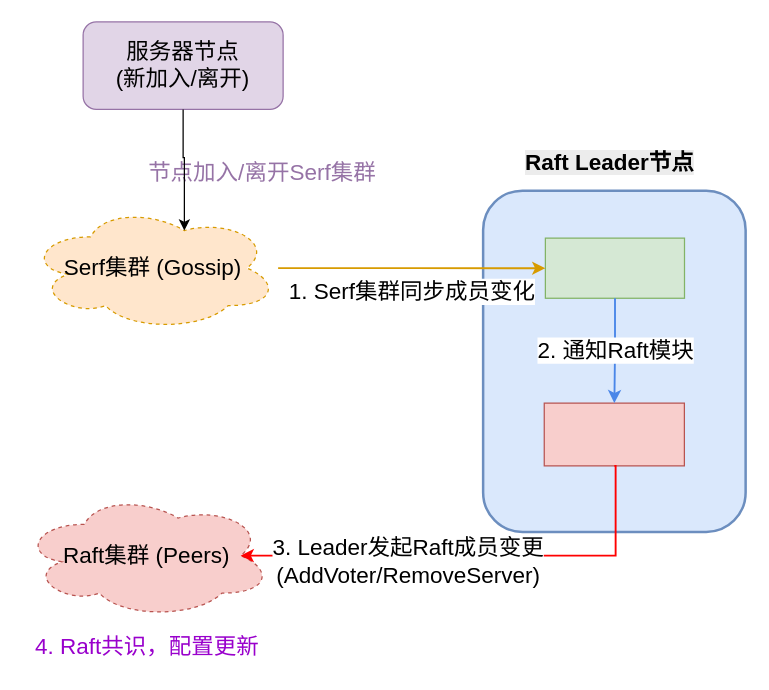
Some shapes in this 769 by 690 pixel diagram are drawn without their labels. Each missing label, with the box of its shape:
Raft模块: (543, 402, 684, 466)
Serf模块: (544, 237, 684, 298)
